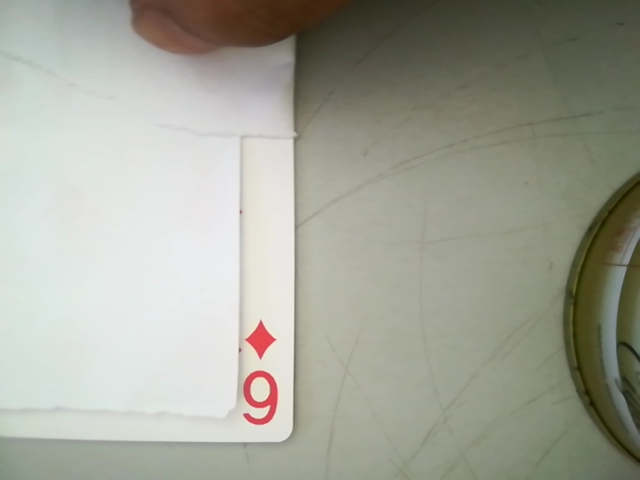fk 6: (222, 309, 285, 434)
